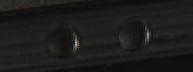holes: (114, 14, 151, 53)
joints: (43, 22, 81, 60), (114, 15, 151, 53)
